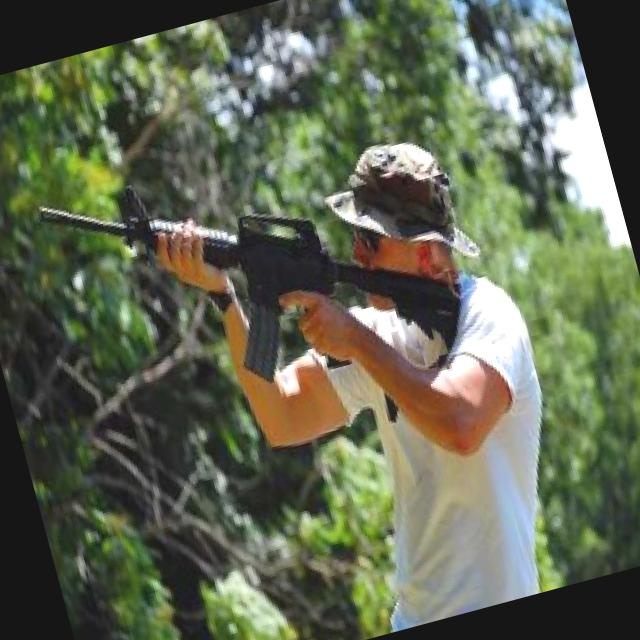long weapon: (24, 84, 506, 454)
